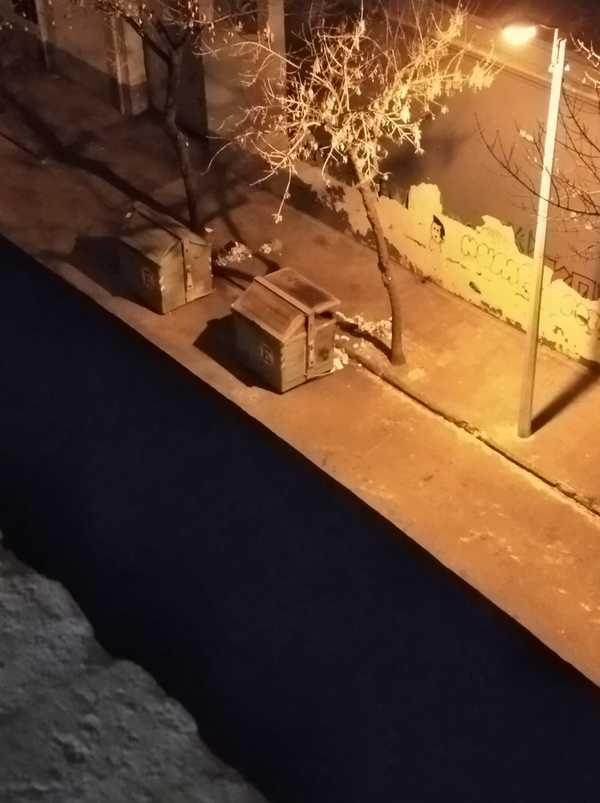Dechets: (336, 314, 390, 372), (214, 240, 279, 271)
Trash: (226, 257, 339, 392), (113, 202, 211, 314)
